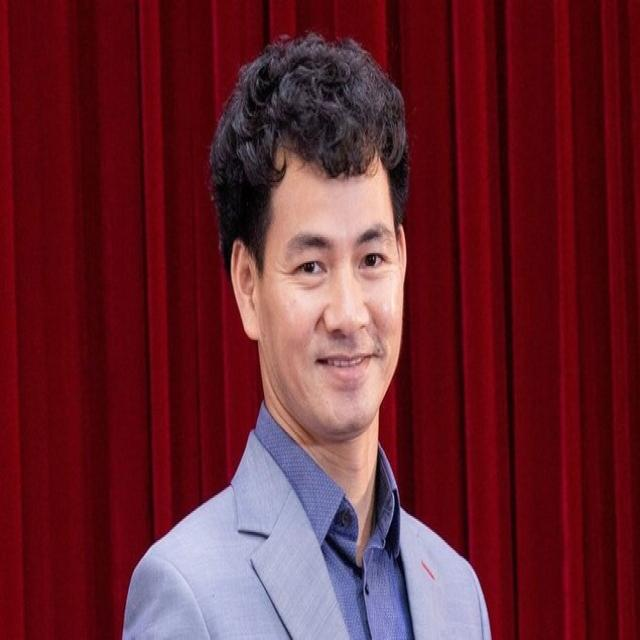no_helmet: (204, 19, 421, 452)
